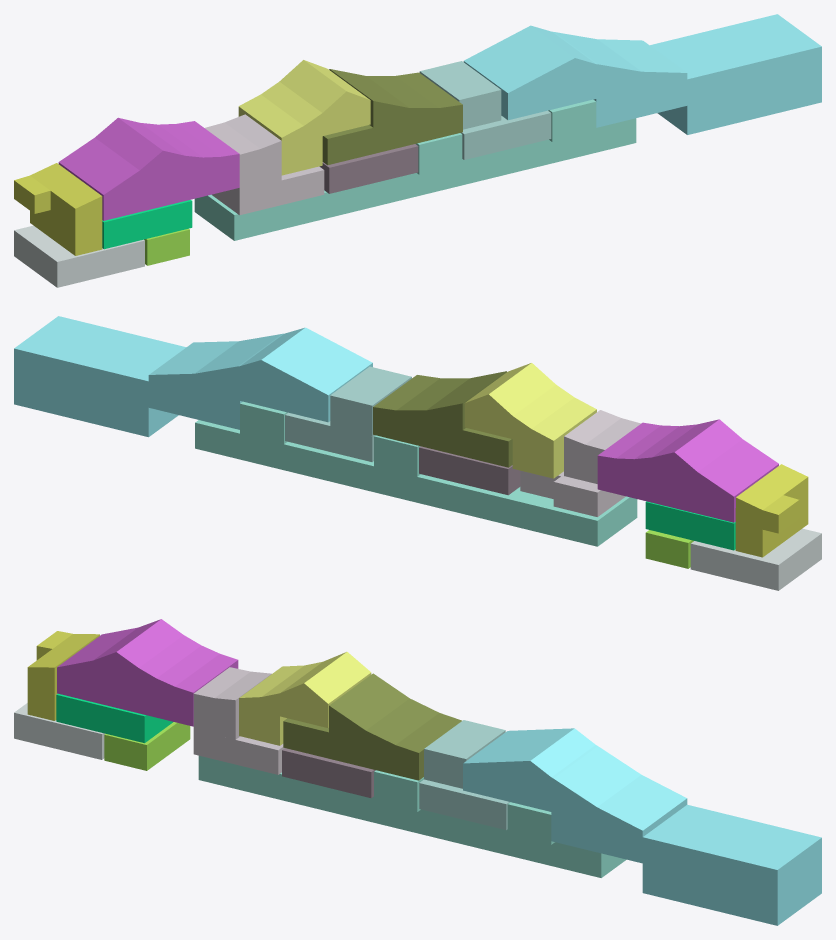
File: 0828-site1.3-web_nav.glb
3 renders of one model, top to bottom at view 1: azimuth 30°, elevation 25°; view 2: azimuth 150°, elevation 25°; view 3: azimuth 330°, elevation 25°, orthographic.
Parts seen in each view (by area): view 1: r1, r2, r12, r11, r10, r7, r5, r9, r4, r6, r8, r3; view 2: r1, r2, r12, r11, r10, r5, r7, r9, r4, r6, r8, r3; view 3: r1, r2, r12, r10, r11, r5, r7, r8, r9, r6, r4, r3.
Part boxes in pixels (bbox=[...]): r1: bbox=[463, 14, 821, 134]; r2: bbox=[194, 99, 636, 240]; r12: bbox=[58, 117, 239, 220]; r11: bbox=[238, 60, 370, 175]; r10: bbox=[322, 69, 462, 165]; r7: bbox=[205, 114, 324, 215]; r5: bbox=[419, 61, 551, 159]; r9: bbox=[14, 163, 102, 255]; r4: bbox=[14, 225, 144, 287]; r6: bbox=[319, 144, 418, 193]; r8: bbox=[102, 200, 192, 249]; r3: bbox=[144, 228, 189, 265]; r1: bbox=[14, 316, 372, 437]; r2: bbox=[195, 401, 637, 546]; r12: bbox=[597, 419, 778, 522]; r11: bbox=[464, 363, 596, 478]; r10: bbox=[373, 371, 512, 467]; r5: bbox=[285, 366, 411, 461]; r7: bbox=[520, 410, 640, 516]; r9: bbox=[735, 464, 808, 557]; r4: bbox=[690, 528, 821, 590]; r6: bbox=[419, 446, 520, 495]; r8: bbox=[645, 501, 735, 550]; r3: bbox=[645, 530, 693, 568]; r1: bbox=[463, 728, 821, 925]; r2: bbox=[198, 755, 626, 877]; r12: bbox=[57, 619, 238, 726]; r10: bbox=[283, 673, 461, 780]; r11: bbox=[239, 652, 371, 745]; r5: bbox=[419, 720, 509, 830]; r7: bbox=[193, 667, 284, 774]; r8: bbox=[56, 693, 172, 743]; r9: bbox=[27, 631, 99, 720]; r6: bbox=[282, 748, 375, 798]; r4: bbox=[14, 703, 104, 759]; r3: bbox=[104, 722, 190, 770].
Size of the model in its own units: 102 by 16.02 by 10.51.
